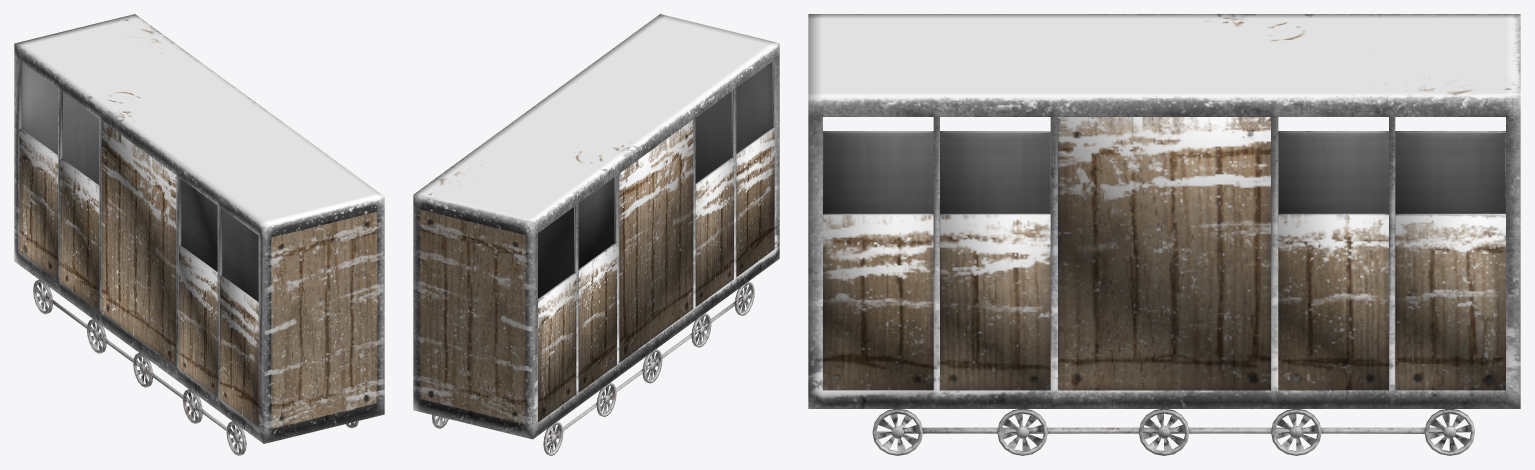
File: carriage.fbx
3 renders of one model, left to right at view 1: azimuth 30°, elevation 25°; view 2: azimuth 150°, elevation 25°; view 3: azimuth 270°, elevation 25°, orthographic. The views are drawn at different scales.
Parts seen in each view (by area): view 1: Object004, Box008, Object003, Cylinder018, Cylinder015, Cylinder017, Cylinder016, Cylinder013, Cylinder014; view 2: Object004, Box008, Object003, Cylinder018, Cylinder013, Cylinder017, Cylinder014, Cylinder015, Cylinder016; view 3: Object004, Object003, Box008, Cylinder018, Cylinder015, Cylinder016, Cylinder013, Cylinder017, Cylinder014.
Boxes of the visible parts, box(x1,y1,x2,y2) form: Object004: box(19, 19, 377, 428); Box008: box(14, 14, 384, 443); Object003: box(101, 121, 258, 366); Cylinder018: box(46, 296, 240, 439); Cylinder015: box(226, 421, 358, 455); Cylinder017: box(182, 389, 202, 423); Cylinder016: box(87, 319, 106, 353); Cylinder013: box(33, 279, 52, 314); Cylinder014: box(133, 353, 152, 387); Object004: box(420, 19, 774, 424); Box008: box(413, 14, 779, 439); Object003: box(538, 120, 693, 362); Cylinder018: box(549, 296, 742, 438); Cylinder013: box(432, 415, 563, 455); Cylinder017: box(691, 313, 711, 347); Cylinder014: box(642, 349, 662, 383); Cylinder015: box(735, 281, 754, 315); Cylinder016: box(596, 382, 616, 416); Object004: box(823, 19, 1505, 390); Object003: box(1058, 117, 1270, 390); Box008: box(808, 14, 1520, 408); Cylinder018: box(902, 427, 1443, 433); Cylinder015: box(872, 409, 922, 455); Cylinder016: box(1271, 409, 1321, 455); Cylinder013: box(1424, 409, 1474, 455); Cylinder017: box(997, 409, 1047, 455); Cylinder014: box(1139, 409, 1189, 455).
Size of the model in its own units: 50.19 by 100 by 180.
